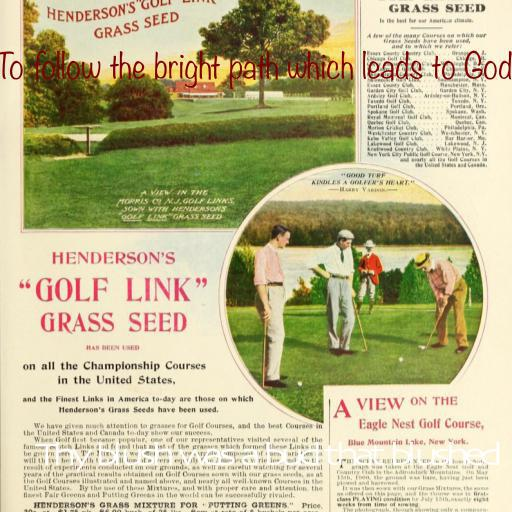Noteworthy: (0, 50, 512, 90)
Skia: (35, 441, 497, 472)
